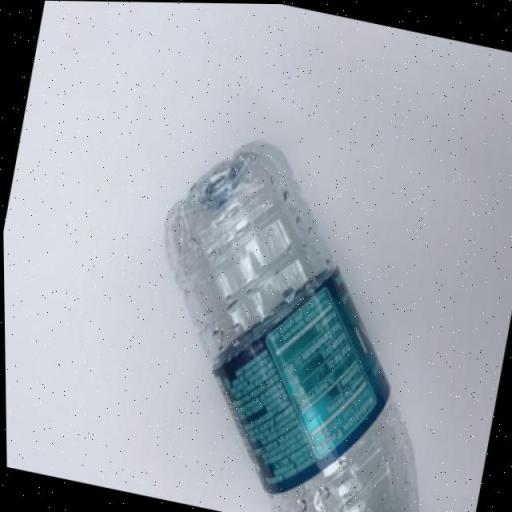plastic: (109, 118, 491, 512)
